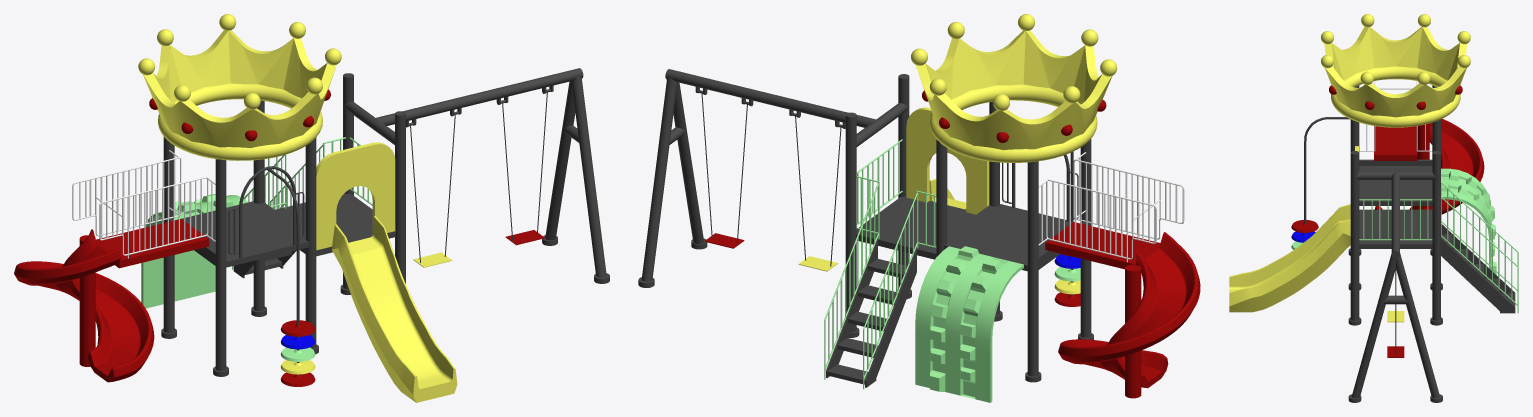
File: playground_set.glb
3 renders of one model, left to right at view 1: azimuth 30°, elevation 25°; view 2: azimuth 150°, elevation 25°; view 3: azimuth 270°, elevation 25°, orthographic. The views are drawn at different scales.
Parts seen in each view (by area): view 1: Pilares, Corona, Resbaladilla_2, Plataformas, Resbaladilla, Boca, Barandales_2, Barandales_3, Muro_Para_Escalar, Barandales_1; view 2: Pilares, Corona, Plataformas, Muro_Para_Escalar, Resbaladilla, Barandales_1, Barandales_2, Boca, Barandales_3; view 3: Corona, Plataformas, Pilares, Resbaladilla_2, Barandales_1, Resbaladilla, Muro_Para_Escalar, Barandales_3, Barandales_2.
Part boxes in pixels (x1,y1,x2,y2): Pilares: [161, 68, 609, 376]; Corona: [138, 14, 341, 160]; Resbaladilla_2: [331, 216, 457, 402]; Plataformas: [96, 193, 395, 278]; Resbaladilla: [14, 229, 154, 382]; Boca: [316, 142, 395, 250]; Barandales_2: [72, 150, 215, 258]; Barandales_3: [228, 166, 315, 386]; Muro_Para_Escalar: [141, 194, 248, 308]; Barandales_1: [232, 137, 372, 269]; Pilares: [638, 69, 1093, 382]; Corona: [911, 14, 1117, 162]; Plataformas: [826, 196, 1160, 387]; Muro_Para_Escalar: [915, 246, 1023, 402]; Resbaladilla: [1058, 232, 1200, 398]; Barandales_1: [824, 139, 936, 389]; Barandales_2: [1038, 152, 1184, 262]; Boca: [906, 107, 989, 214]; Barandales_3: [1002, 151, 1080, 306]; Corona: [1321, 14, 1470, 127]; Plataformas: [1359, 126, 1515, 313]; Pilares: [1348, 85, 1442, 402]; Resbaladilla_2: [1229, 204, 1350, 312]; Barandales_1: [1359, 182, 1518, 313]; Resbaladilla: [1374, 118, 1484, 214]; Muro_Para_Escalar: [1441, 168, 1496, 274]; Barandales_3: [1291, 117, 1349, 249]; Barandales_2: [1359, 81, 1432, 151].
Bounding box in the file's own units: 0.2344 × 0.1205 × 0.1388.
